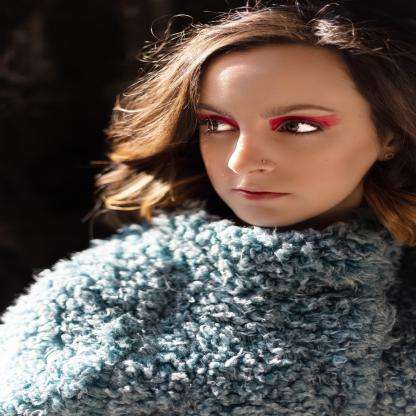Eye: (271, 110, 333, 141), (188, 112, 239, 138)
Mouth: (222, 184, 300, 204)
Nose: (218, 134, 288, 178)
